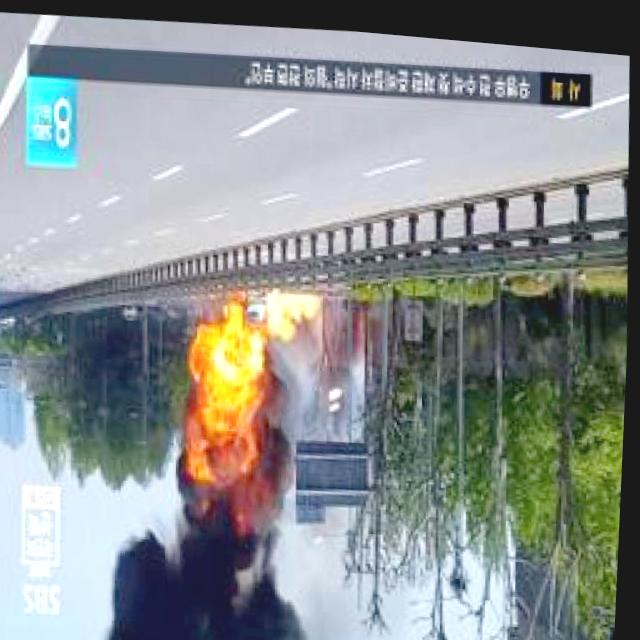Fire: (185, 288, 295, 532), (266, 278, 317, 325)
Smoke: (101, 513, 320, 640)
